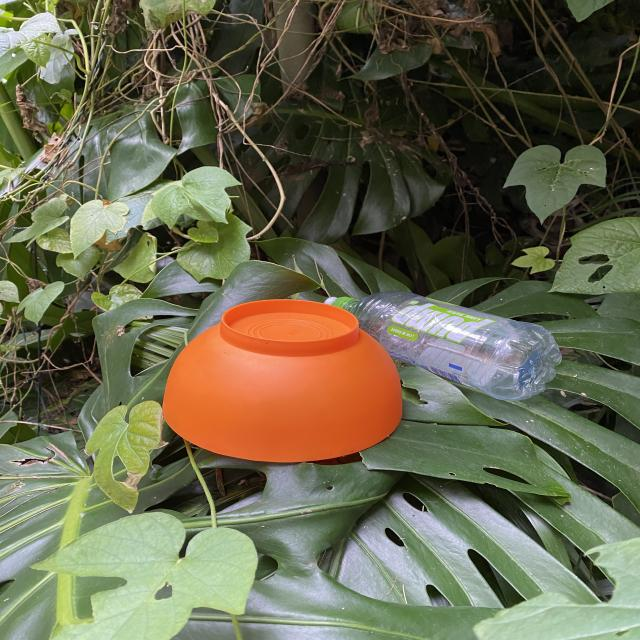bottle: (325, 292, 563, 401)
bowl: (162, 299, 402, 462)
